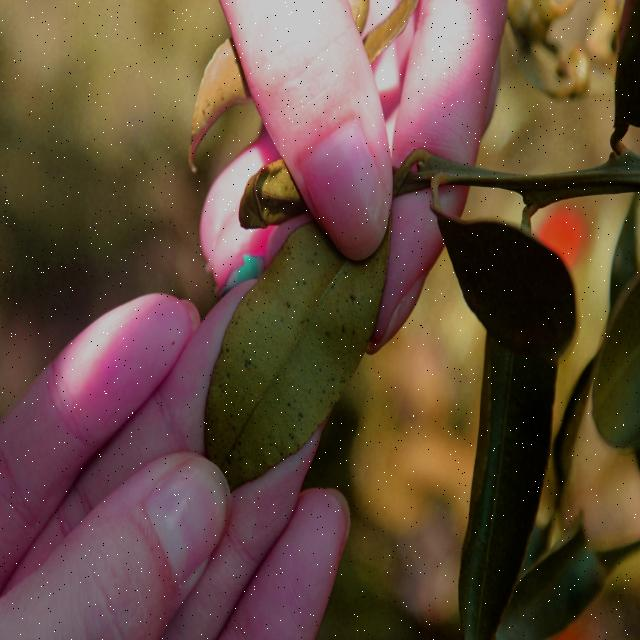melanose: (205, 236, 373, 480), (176, 52, 236, 167)
